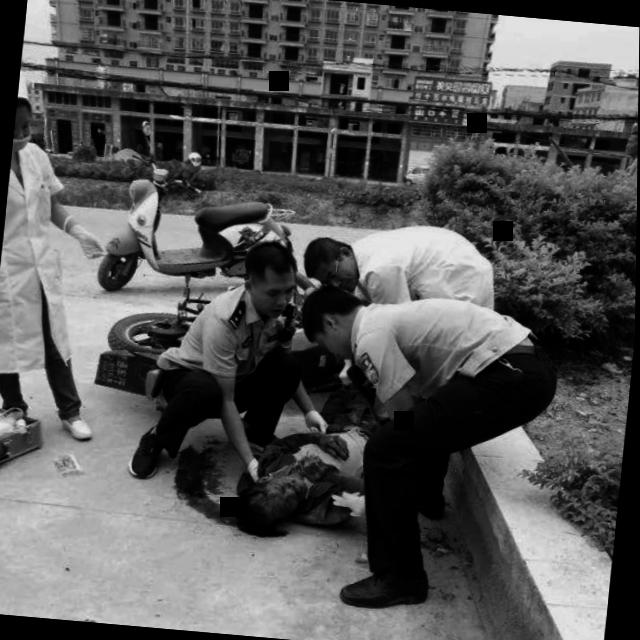Fall-Detected: (211, 390, 434, 557)
